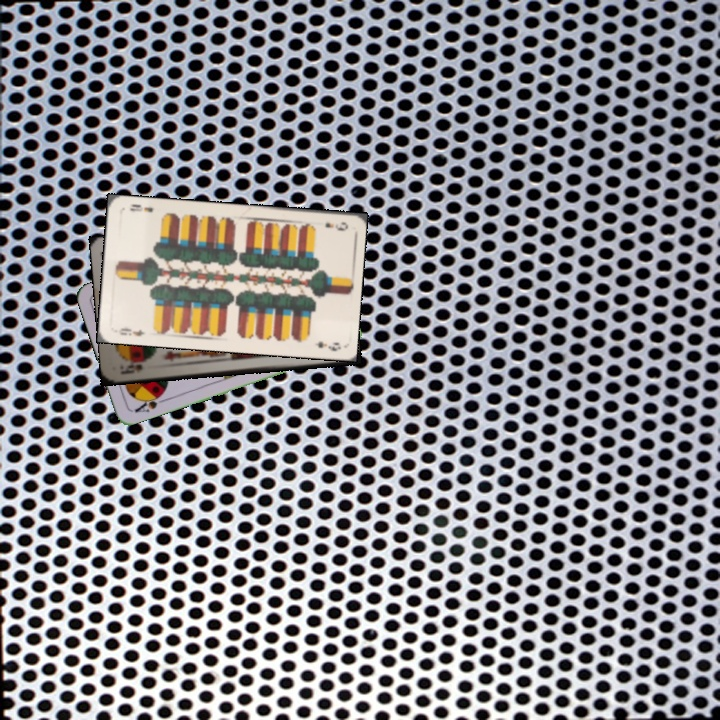E9: (114, 324, 148, 339), (321, 218, 350, 233)
SA: (131, 389, 168, 415)
SK: (116, 357, 149, 377)
